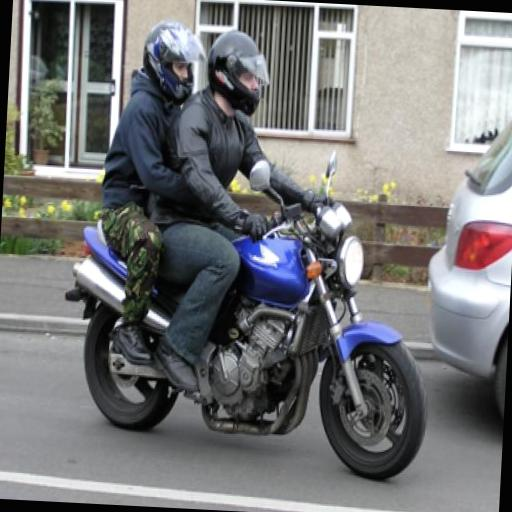helmet: (156, 14, 438, 475)
